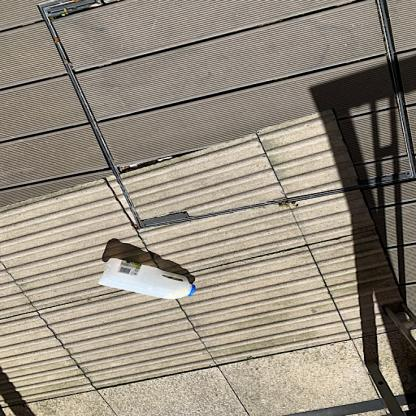trash: (98, 256, 202, 301)
